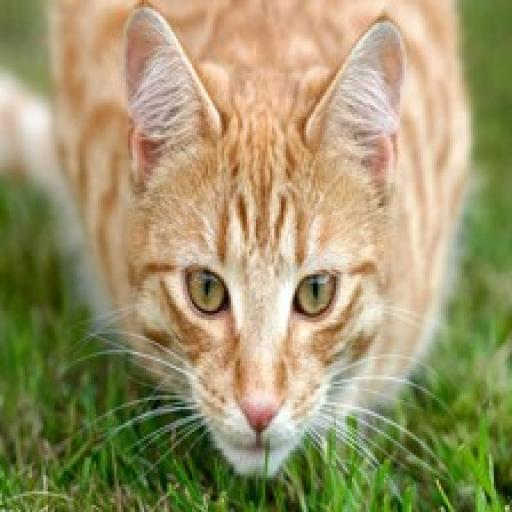cat: (36, 0, 475, 489)
